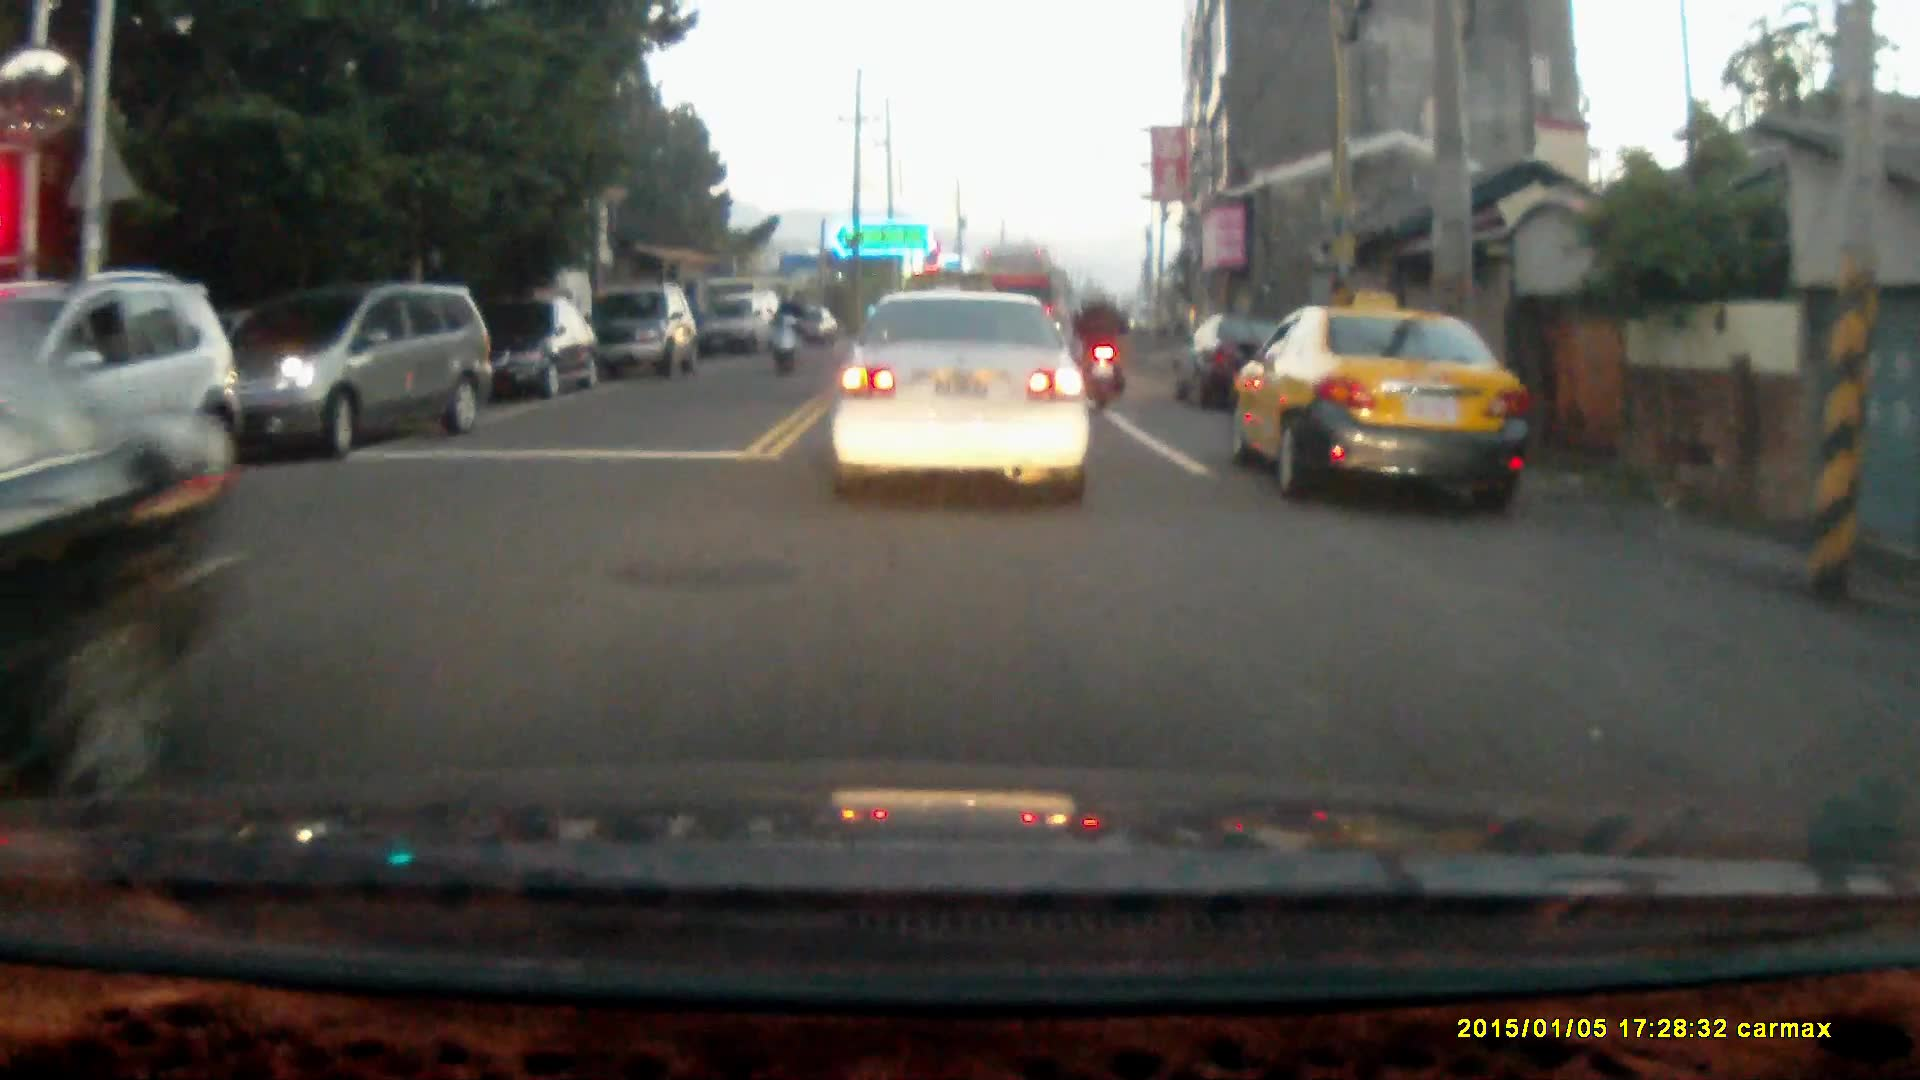rider: (1072, 282, 1131, 413), (768, 284, 802, 375)
vehicle: (1, 275, 260, 799), (1, 263, 252, 526), (1236, 301, 1534, 519), (829, 286, 1106, 500), (202, 280, 490, 459), (468, 296, 600, 404), (590, 279, 697, 375), (706, 286, 786, 358)
